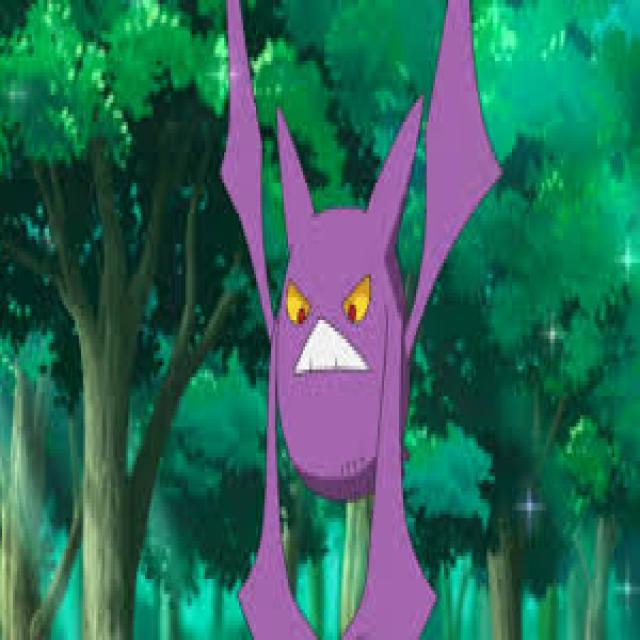crobat: (220, 0, 494, 640)
